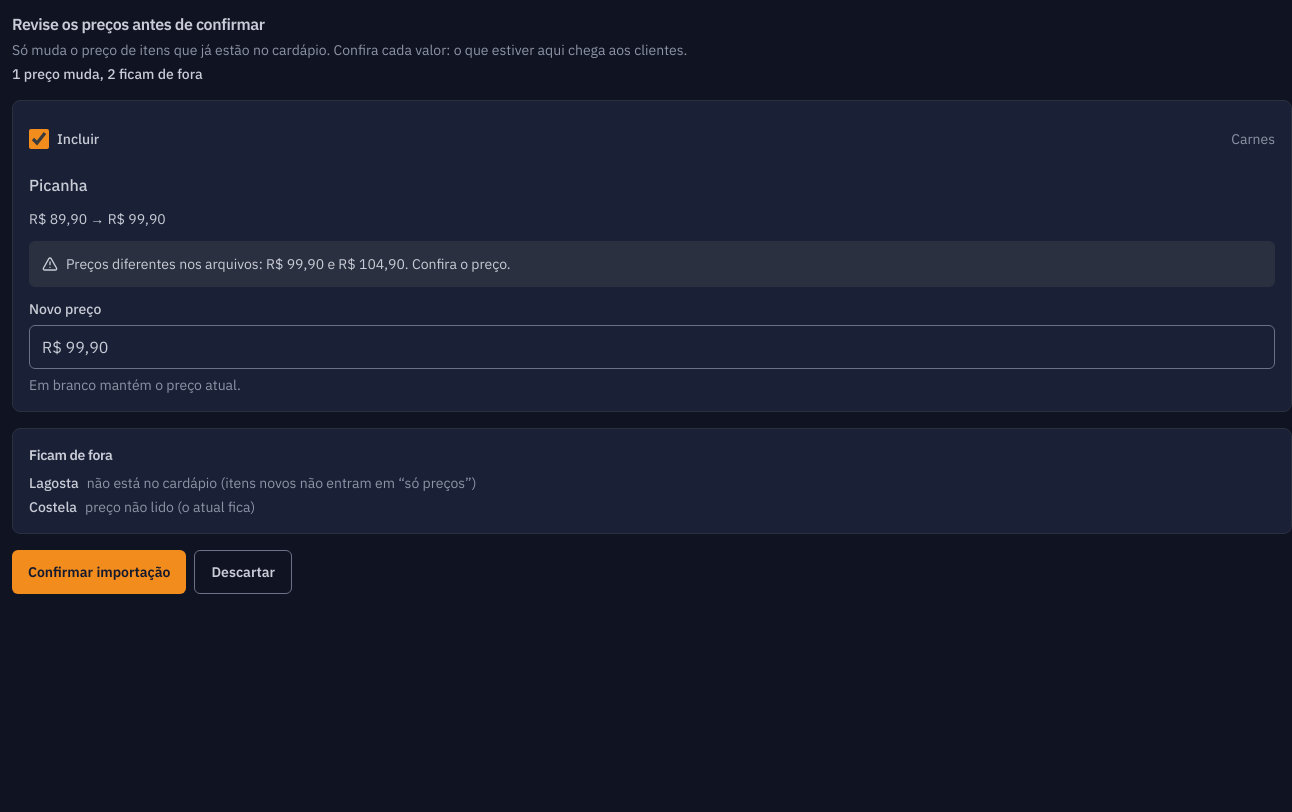
RevisaoSoPrecos › antes → depois editável; não encontrados e sem preço à parte; confirma o rascunho editado
Expected: the text "R$ 89,90 → R$ 99,90" is shown, [29, 210, 166, 228]
Expected: the text "Preços diferentes nos arquivos: R$ 99,90 e R$ 104,90. Confira o preço." is shown, [66, 254, 511, 274]
Replace the text in the field labelled "Novo preço" with "10490" at (652, 347), box [29, 325, 1275, 369]
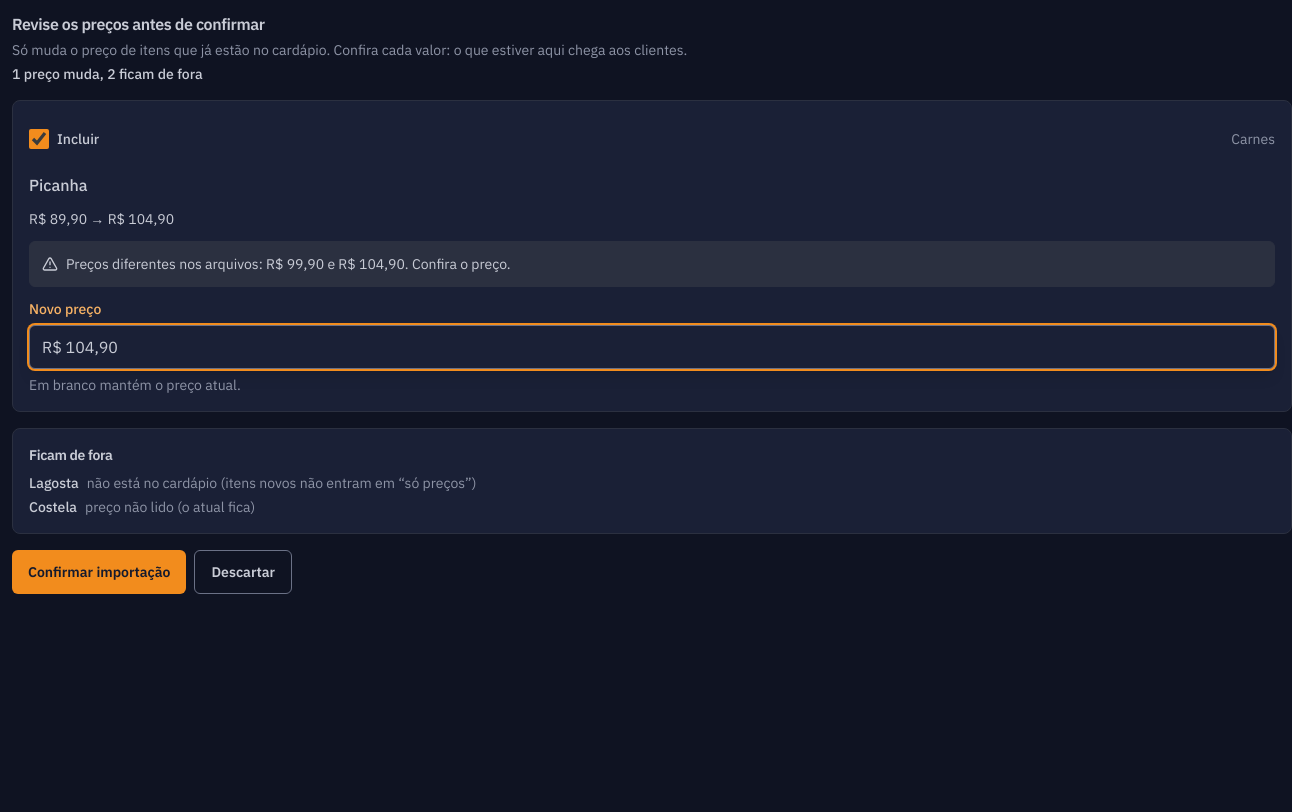
Click the button "Confirmar importação".
click(99, 572)  # box [12, 550, 186, 594]
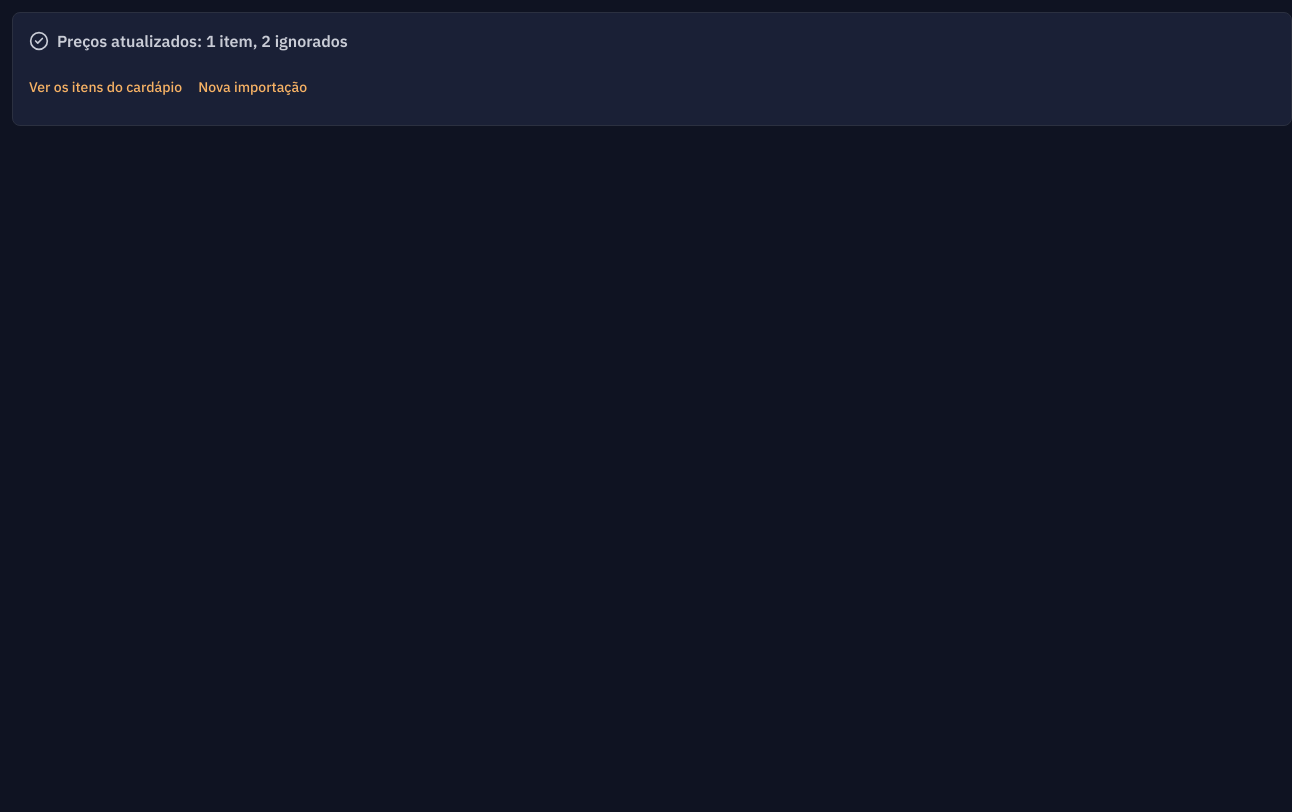
Now the message reads "Preços atualizados: 1 item, 2 ignorados", box [57, 31, 348, 51]
